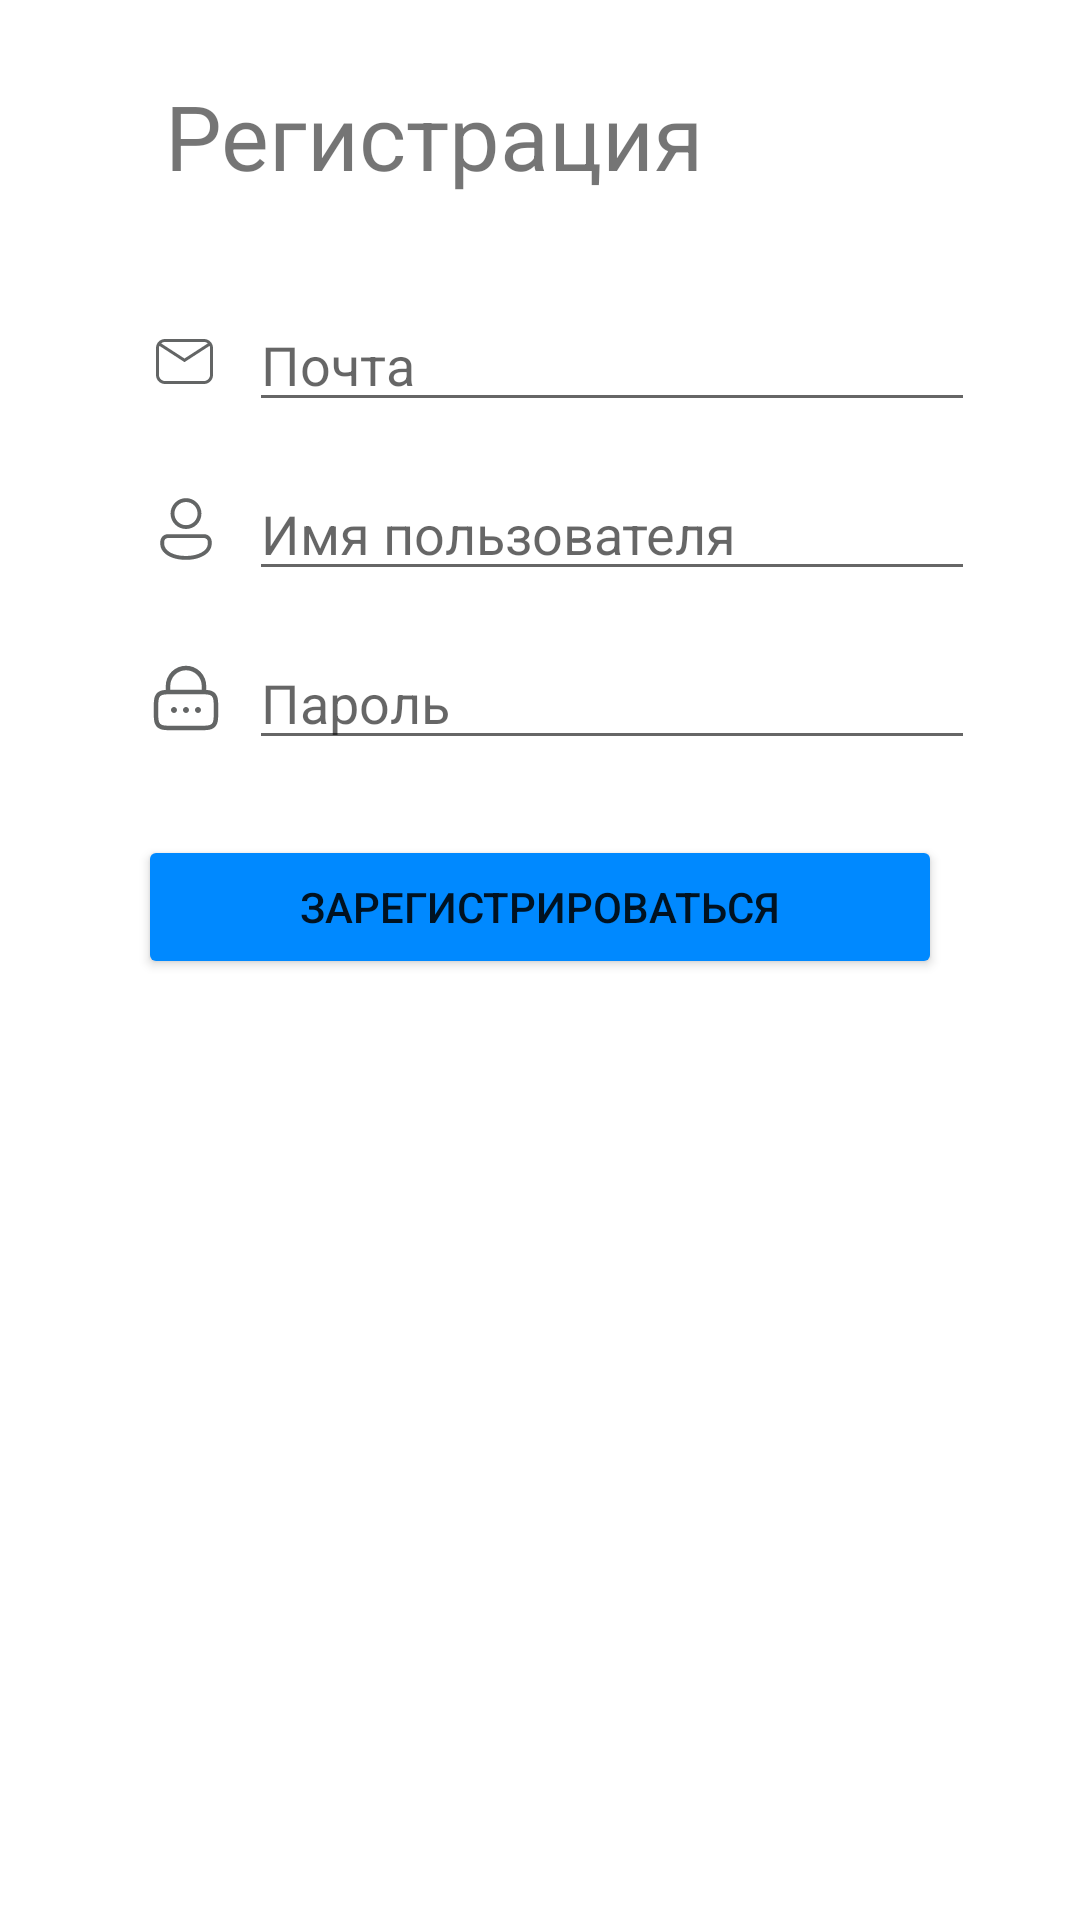

Where to tap for icons on this 1080w x 1920h app screen, as (x,y):
email: (184,361)
password: (186,698)
username: (186,529)
